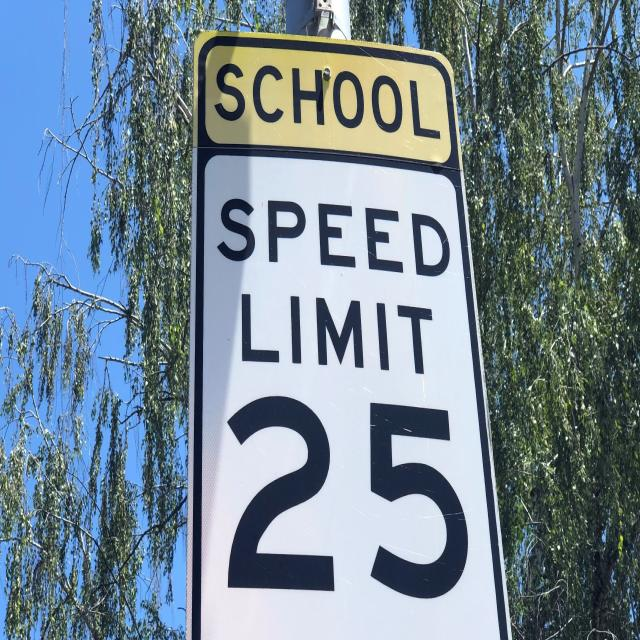Speed Limit Signs: (195, 151, 514, 635)
